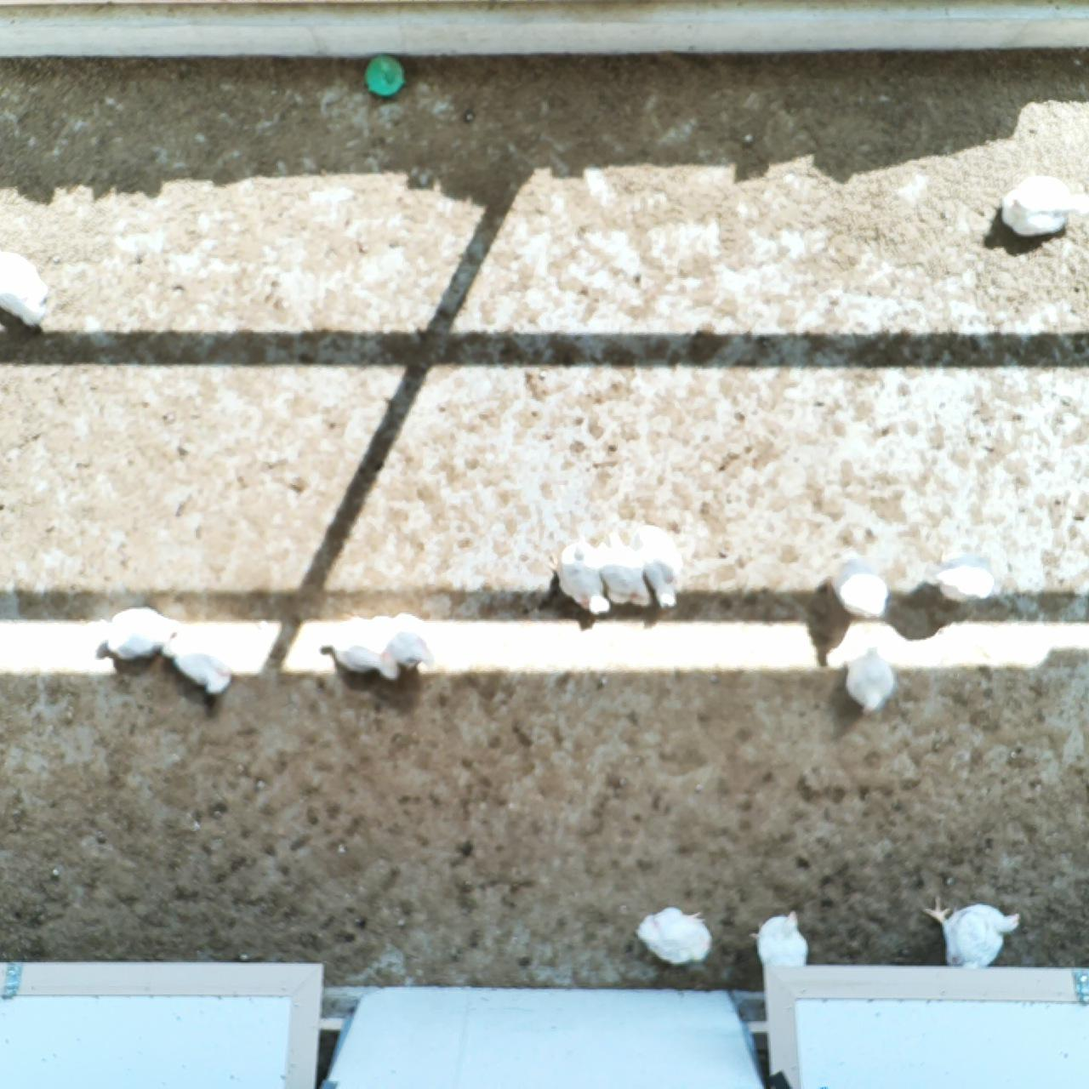chicken: (918, 892, 1021, 976), (619, 518, 683, 615), (156, 620, 233, 697), (315, 616, 398, 686), (997, 171, 1076, 244), (92, 604, 185, 666), (920, 546, 1012, 606), (359, 608, 439, 675), (581, 535, 650, 612), (543, 537, 610, 615), (636, 903, 712, 970), (747, 909, 811, 988), (825, 552, 892, 621), (0, 246, 52, 329), (842, 642, 899, 717)
